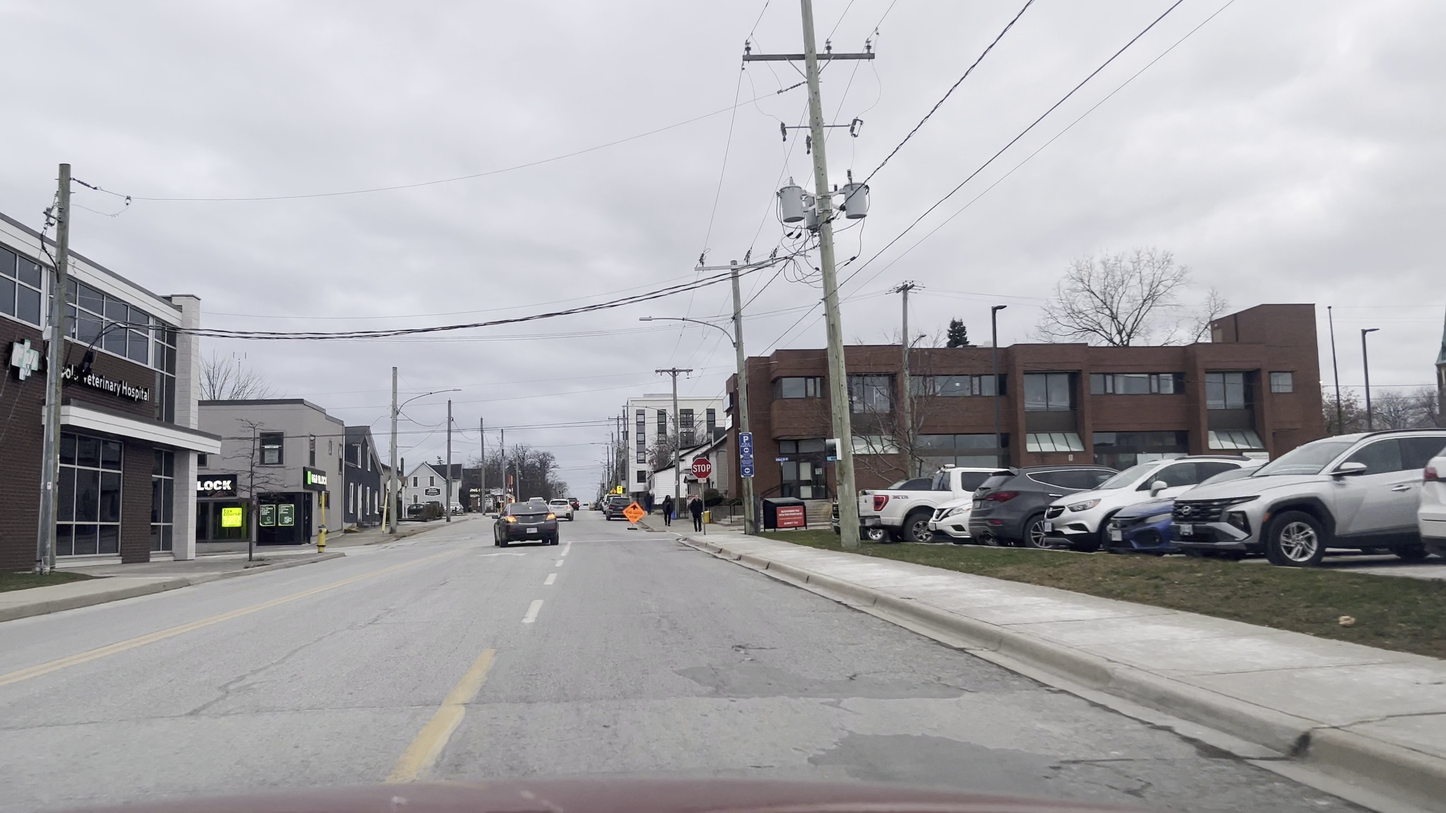cracks: (1044, 741, 1214, 812), (841, 661, 973, 706), (722, 639, 790, 675)
pothole: (805, 726, 1037, 798)
